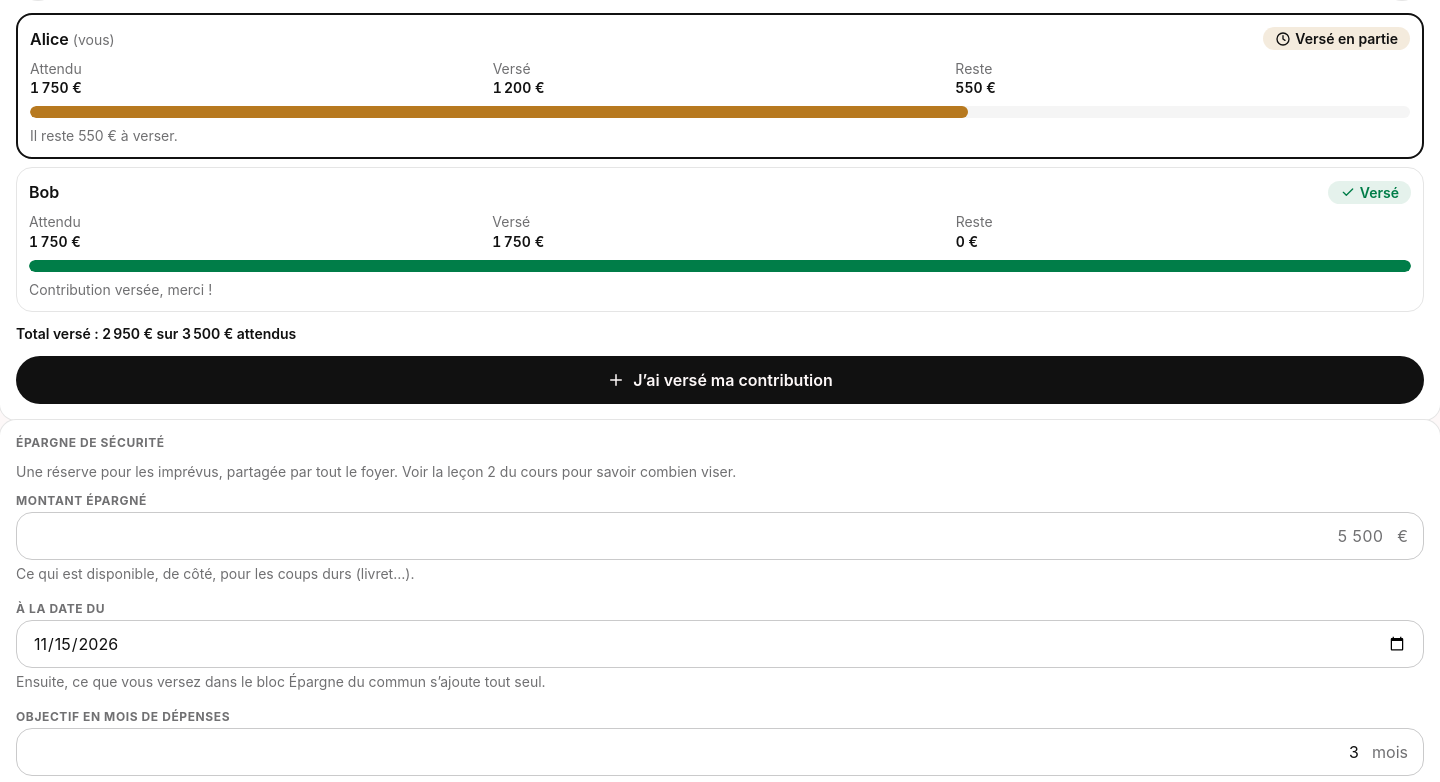
Test: FoyerPage « Contributions du mois » › paying › records the payment for the displayed month, then refreshes the status and confirms
The width and height of the screenshot is (1440, 782).
(page scrolled)
Click the button "J’ai versé ma contribution" at (720, 380), box [16,356,1424,404]
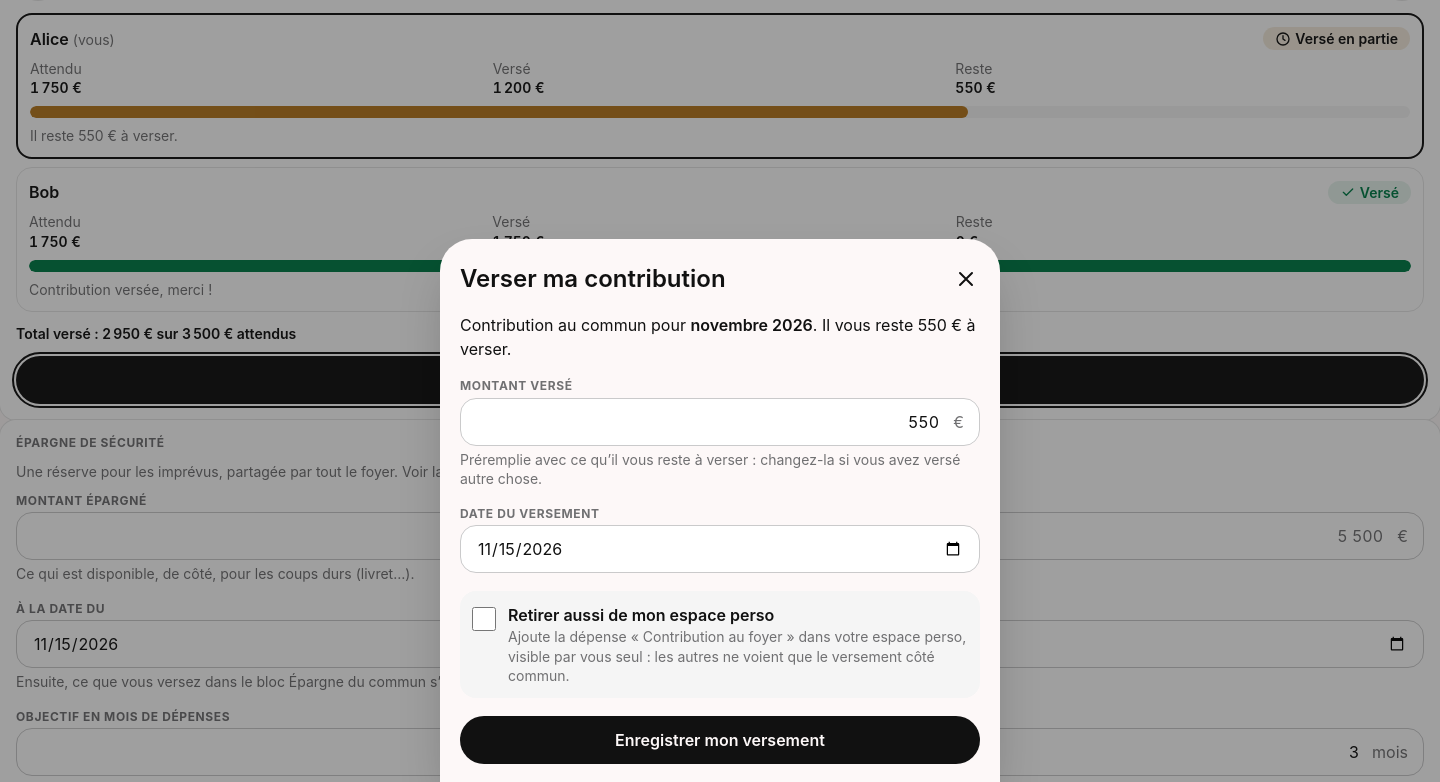
Replace the text in the field labelled "Montant versé" with "500,50" at (720, 422), box [460,398,980,446]
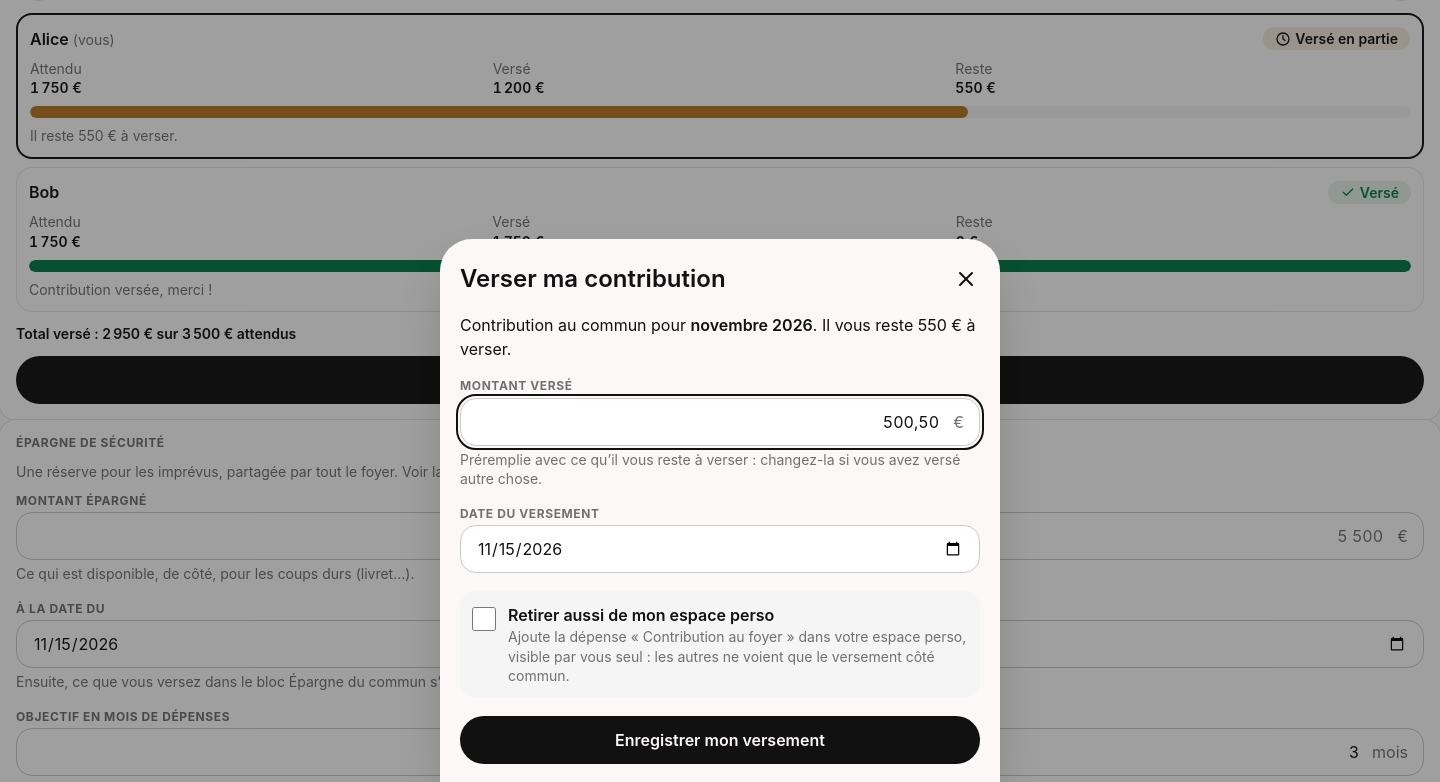
Type "2026-11-03" into the date field labelled "Date du versement" at (720, 549), box [460,525,980,573]
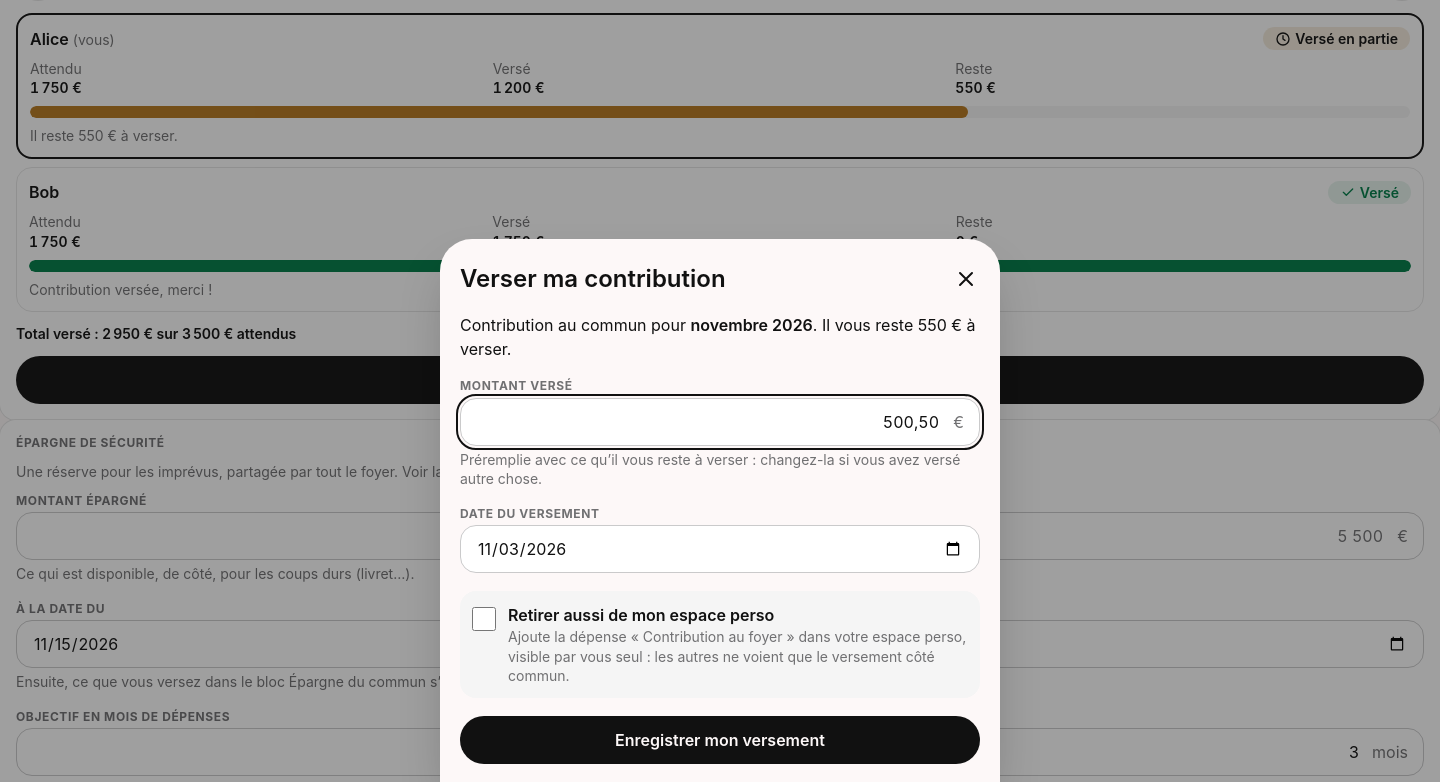
Click the button "Enregistrer mon versement" at (720, 740), box [460,716,980,764]
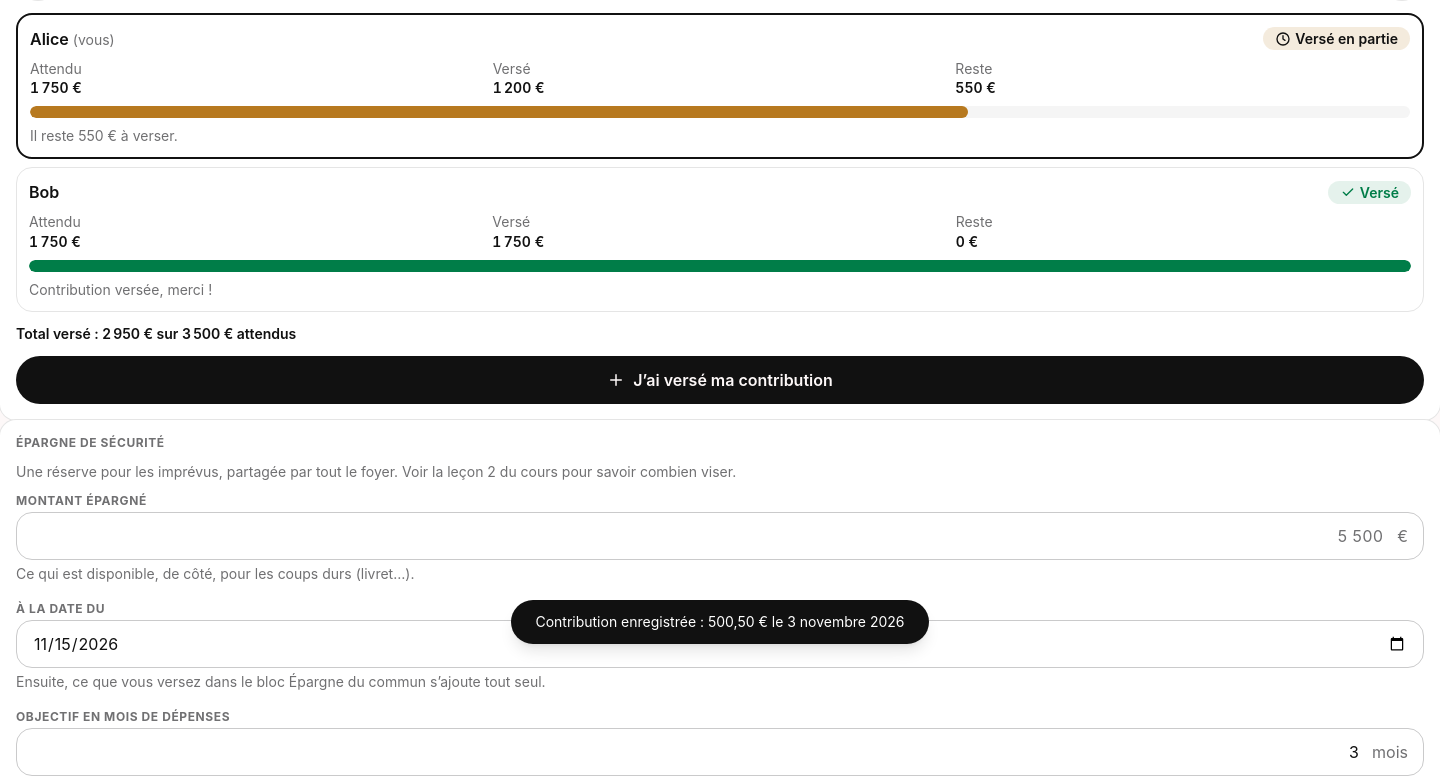
Now the text "Contribution enregistrée : 500,50 € le 3 novembre 2026" is shown, box [511,600,928,644]
